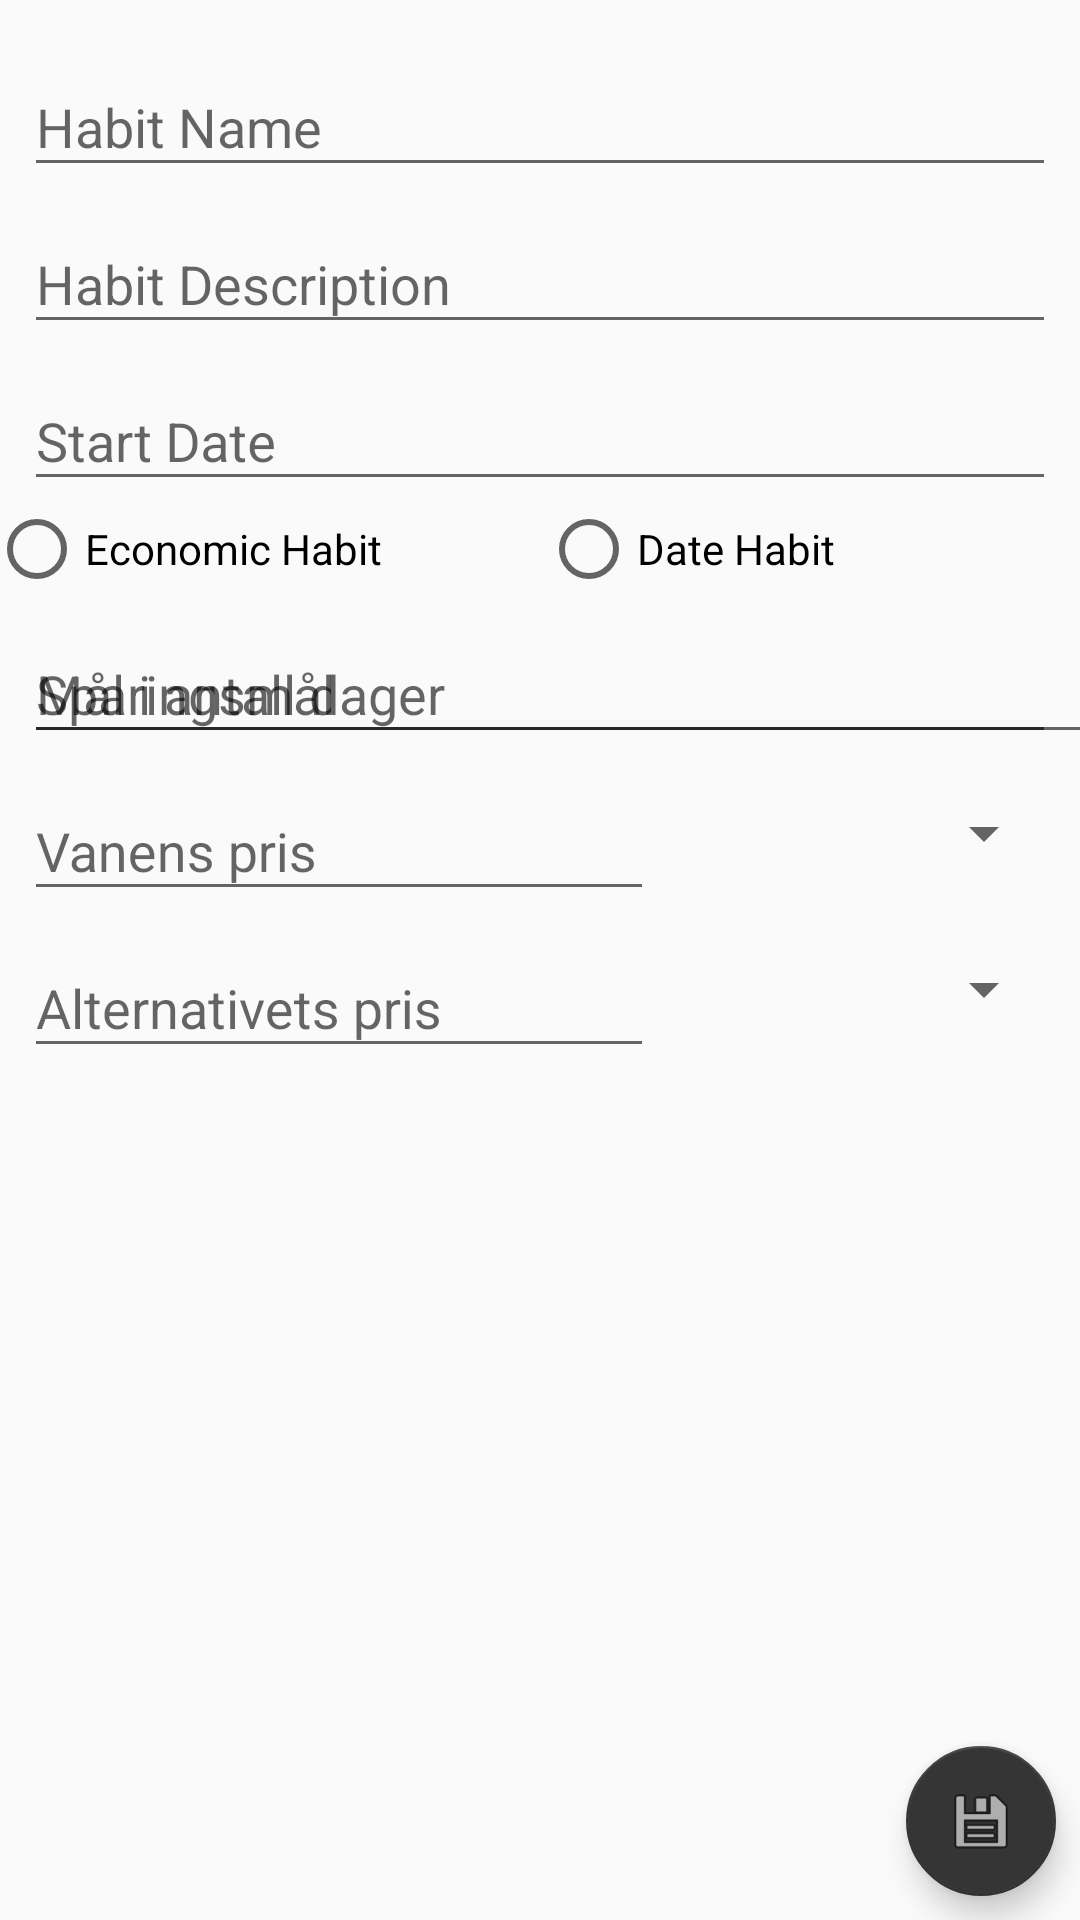

Icons on this 1080x1920 Android screen, each with the point to tap as (x,y):
save: (981,1821)
